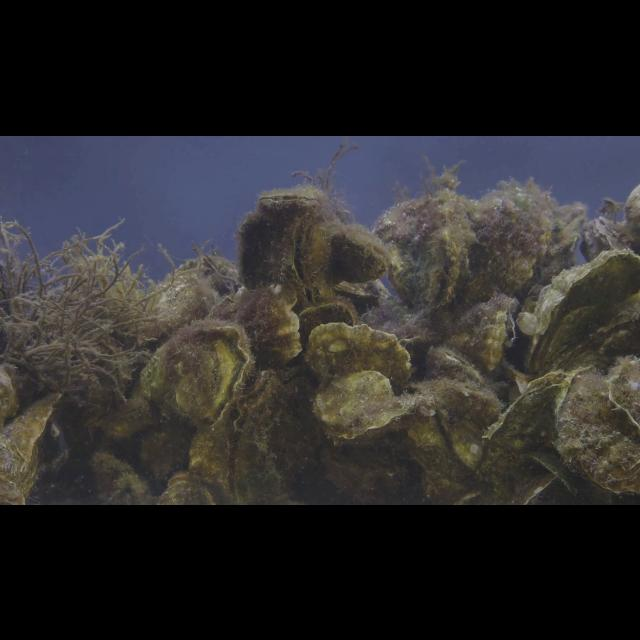Oyster-Closed: (525, 246, 640, 374), (473, 368, 571, 504), (370, 195, 476, 319), (553, 363, 640, 498), (469, 185, 558, 307), (138, 250, 240, 354), (205, 280, 305, 372), (310, 368, 422, 444), (302, 320, 413, 388), (1, 388, 64, 504), (328, 224, 392, 284), (578, 215, 640, 262), (606, 355, 640, 429), (426, 344, 482, 386)
Oyster-Open: (136, 318, 250, 429), (224, 368, 314, 504), (237, 188, 326, 314), (441, 296, 519, 374), (157, 470, 216, 504)
